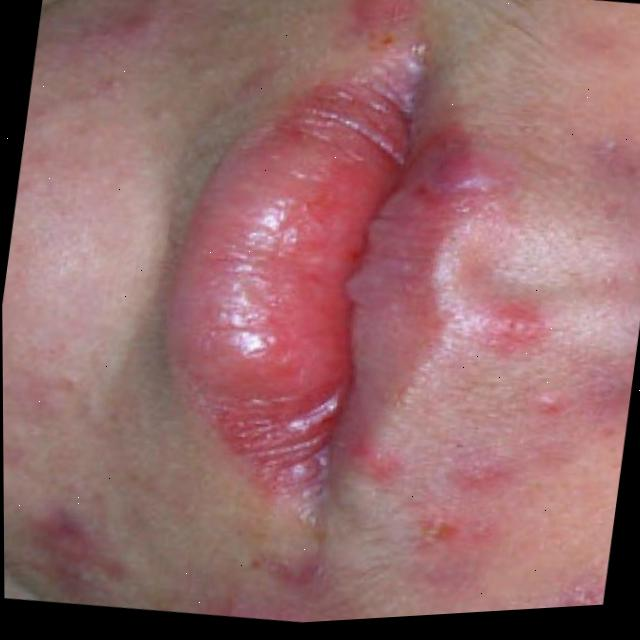Acne: (388, 60, 640, 597), (23, 468, 134, 596), (93, 0, 190, 93), (354, 0, 417, 44)
